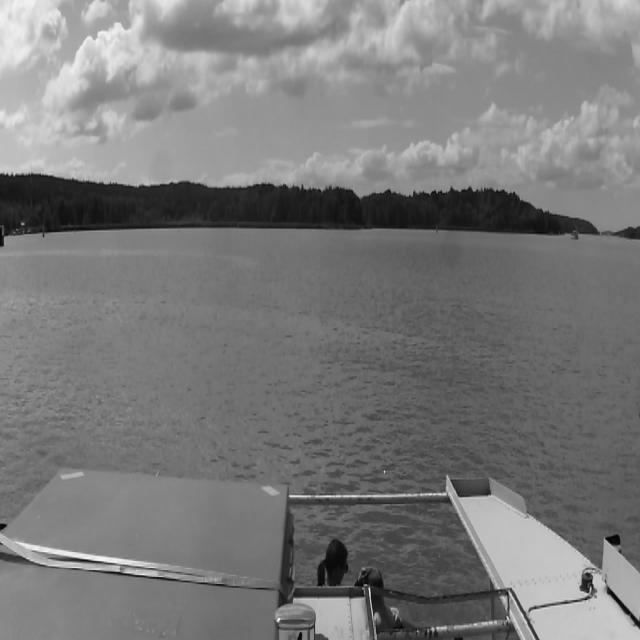buoy: (42, 224, 44, 238)
ship: (571, 229, 579, 240)
